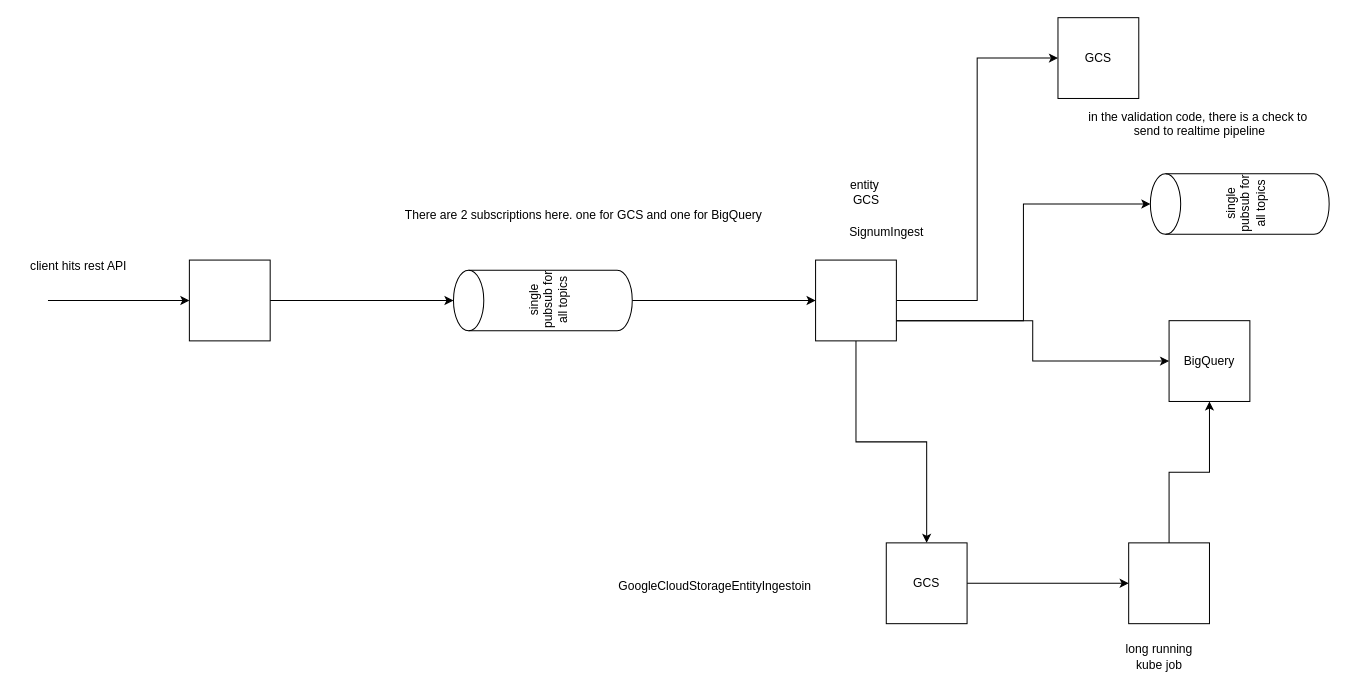
This 1346x695 diagram has some shape labels left out. Each missing label, with the centre of its shape:
"dataflow job" goes at (x=855, y=300).
"new pipeline similar to relationDB pipeline" goes at (x=1168, y=583).
"signumApp HTTP server" goes at (x=229, y=300).
